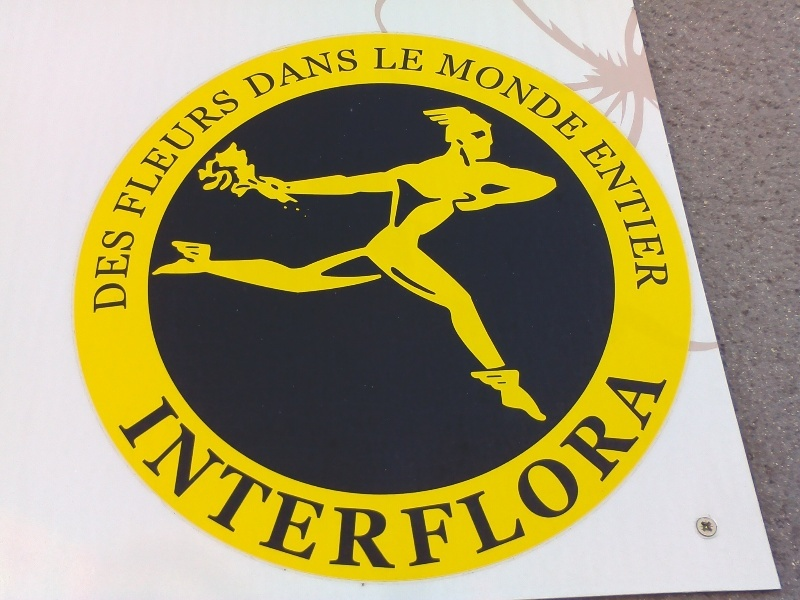text: (113, 365, 128, 590), (129, 365, 144, 590), (145, 365, 160, 590), (161, 365, 176, 590), (177, 365, 192, 590), (193, 365, 208, 590), (209, 365, 224, 590), (225, 365, 240, 590), (241, 365, 256, 590), (257, 365, 272, 590), (273, 365, 288, 590), (289, 365, 304, 590), (305, 365, 320, 590), (321, 365, 336, 590), (337, 365, 352, 590), (353, 365, 368, 590), (369, 365, 384, 590), (385, 365, 400, 590), (401, 365, 416, 590), (417, 365, 432, 590), (433, 365, 448, 590), (449, 365, 464, 590), (465, 365, 480, 590), (481, 365, 496, 590), (497, 365, 512, 590), (513, 365, 528, 590), (529, 365, 544, 590), (545, 365, 560, 590), (561, 365, 576, 590), (577, 365, 592, 590), (593, 365, 608, 590), (609, 365, 624, 590), (625, 365, 640, 590), (641, 365, 656, 590), (657, 365, 672, 590), (673, 365, 688, 590), (689, 365, 704, 590), (625, 130, 640, 294), (641, 130, 656, 294), (657, 130, 672, 294), (673, 130, 688, 294), (113, 78, 128, 221), (129, 78, 144, 221), (145, 78, 160, 221), (161, 78, 176, 221), (177, 78, 192, 221), (193, 78, 208, 221), (209, 78, 224, 221), (225, 78, 240, 221), (612, 130, 624, 294), (99, 78, 112, 221), (449, 44, 464, 143), (465, 44, 480, 143), (481, 44, 496, 143), (497, 44, 512, 143), (513, 44, 528, 143), (529, 44, 544, 143), (545, 44, 560, 143), (561, 44, 576, 143), (577, 44, 592, 143), (113, 221, 128, 318), (101, 221, 112, 318), (241, 42, 256, 101), (257, 42, 272, 101), (273, 42, 288, 101), (289, 42, 304, 101), (305, 42, 320, 101), (321, 42, 336, 101), (337, 42, 352, 101), (129, 221, 138, 318), (241, 78, 247, 221), (593, 44, 601, 143), (689, 130, 692, 294), (353, 42, 360, 101), (385, 46, 400, 72), (401, 46, 416, 72), (372, 46, 384, 72), (417, 46, 428, 72), (705, 365, 706, 590), (446, 44, 448, 143), (238, 42, 240, 101)
